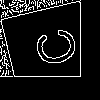C: (25, 24, 80, 72)
